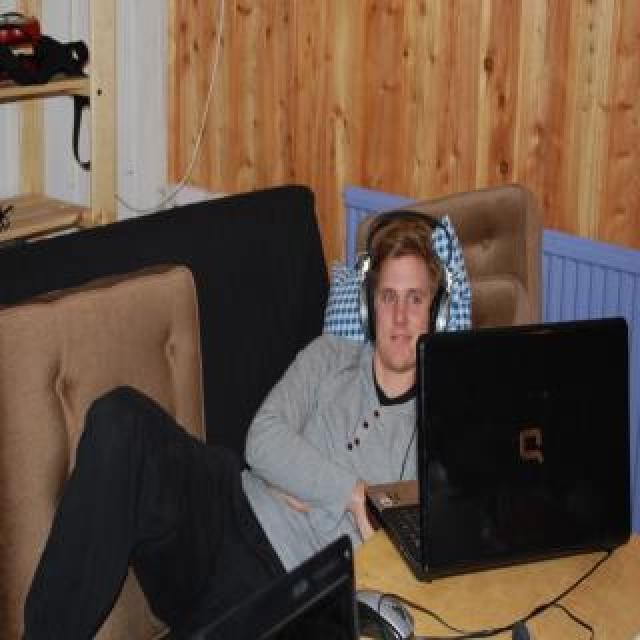earphone: (345, 218, 480, 327)
laptop_computer: (366, 337, 636, 563)
mouse: (354, 576, 420, 640)
